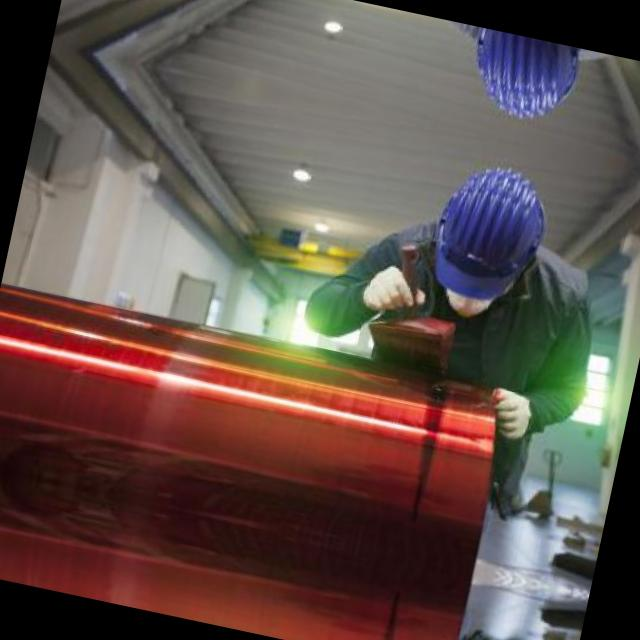helmet: (416, 146, 558, 322), (455, 26, 585, 136)
